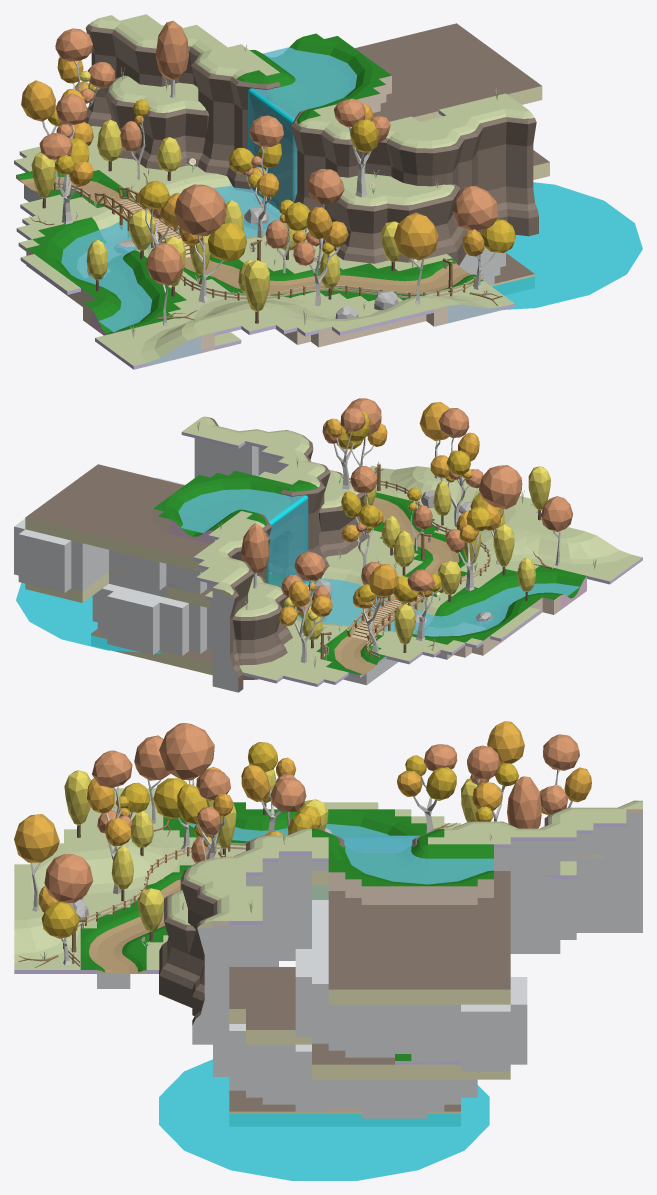
The model's file is Autumn_Path_v2.glb.
3 views of the same model, one above another, from view 1: azimuth 30°, elevation 25°; view 2: azimuth 150°, elevation 25°; view 3: azimuth 270°, elevation 25° (orthographic). The views are drawn at different scales.
Visible parts, largest first — view 1: Water_Circle_1_Lowpoly__Cave Pool__0__0__1, Floor_And_Ceiling_Flat_1x1__Cliff__0__0__2, Grass_Hill_Sharp_Curve_Inner_6x6__Grass__0__0__2, Tree_Oak_5__Leaves Autumn Red__3__1__1, Grass_Hill_Grade_Transition_Curve_Outer_4x5__Grass Autumn__0 (×2), Grass_Hill_Sharp_Esse_4x4__Grass__0__0__1, Grass_Flat_1x1__Grass Autumn__2__0__53, Grass_Hill_Sharp_Curve_Inner_6x6__Grass__0__0__3, Tree_Oak_5__Leaves Autumn Red__3__0__1, Basic_Curve_Outer_3x3_Top__Cliff__0__0__1, Tree_Oak_3__Leaves Autumn Orange__1__1__1, Grass_Hill_Sharp_Curve_Inner_6x6__Grass__0__0__1 (+90 smaller); view 2: Floor_And_Ceiling_Flat_1x1__Cliff__0__0__2, Water_Circle_1_Lowpoly__Cave Pool__0__0__1, Grass_Hill_Grade_Transition_Curve_Outer_4x5__Grass Autumn__0 (×2), Grass_Hill_Sharp_Curve_Inner_6x6__Grass__0__0__3, Wall_Curve_Inner_7x7_Top__Hidden__3__0__2, Floor_And_Ceiling_Flat_1x1__Hidden_Yellow__1__0__2, Grass_Hill_Sharp_Curve_Inner_6x6__Grass__0__0__1, Wall_Curve_Inner_7x7_Base__Hidden__2__0__2, Tree_Oak_5__Leaves Autumn Red__3__1__1, Wall_Curve_Inner_3x3_Top__Hidden__2__0__1, Wall_Curve_Inner_3x3_Base__Hidden__2__0__1, Wall_Esse_4x6_Base__Hidden__2__1__1 (+73 smaller); view 3: Water_Circle_1_Lowpoly__Cave Pool__0__0__1, Floor_And_Ceiling_Flat_1x1__Cliff__0__0__2, Wall_Curve_Inner_7x7_Base__Hidden__2__0__1, Wall_Esse_4x6_Top__Hidden__1__0__1, Wall_Esse_4x6_Base__Hidden__2__0__1, Floor_And_Ceiling_Flat_1x1__Hidden_Yellow__1__0__4, Floor_And_Ceiling_Flat_1x1__Hidden_Yellow__1__0__2, Floor_And_Ceiling_Flat_1x1__Hidden_Yellow__1__0__8, Floor_And_Ceiling_Flat_1x1__Cliff__0__0__1, Wall_Curve_Inner_7x7_Top__Hidden__3__0__1, Wall_Curve_Inner_5x5_Top__Hidden__0__0__1, Wall_Curve_Inner_5x5_Base__Hidden__1__0__2 (+69 smaller).
Part boxes in pixels (x1,y1,x2,y2): Water_Circle_1_Lowpoly__Cave Pool__0__0__1: (492, 182, 642, 309); Floor_And_Ceiling_Flat_1x1__Cliff__0__0__2: (355, 23, 541, 121); Grass_Hill_Sharp_Curve_Inner_6x6__Grass__0__0__2: (27, 217, 106, 277); Tree_Oak_5__Leaves Autumn Red__3__1__1: (174, 184, 226, 235); Grass_Hill_Grade_Transition_Curve_Outer_4x5__Grass Autumn__0 (×2): (140, 295, 500, 362); Grass_Hill_Sharp_Esse_4x4__Grass__0__0__1: (277, 33, 360, 72); Grass_Flat_1x1__Grass Autumn__2__0__53: (95, 313, 240, 365); Grass_Hill_Sharp_Curve_Inner_6x6__Grass__0__0__3: (323, 53, 391, 106); Tree_Oak_5__Leaves Autumn Red__3__0__1: (452, 185, 498, 232); Basic_Curve_Outer_3x3_Top__Cliff__0__0__1: (387, 140, 449, 175); Tree_Oak_3__Leaves Autumn Orange__1__1__1: (394, 212, 438, 259); Grass_Hill_Sharp_Curve_Inner_6x6__Grass__0__0__1: (107, 279, 186, 334); Floor_And_Ceiling_Flat_1x1__Cliff__0__0__2: (26, 464, 210, 557); Water_Circle_1_Lowpoly__Cave Pool__0__0__1: (16, 582, 162, 653); Grass_Hill_Grade_Transition_Curve_Outer_4x5__Grass Autumn__0 (×2): (380, 466, 630, 563); Grass_Hill_Sharp_Curve_Inner_6x6__Grass__0__0__3: (173, 471, 280, 510); Wall_Curve_Inner_7x7_Top__Hidden__3__0__2: (130, 592, 211, 631); Floor_And_Ceiling_Flat_1x1__Hidden_Yellow__1__0__2: (25, 517, 205, 572); Grass_Hill_Sharp_Curve_Inner_6x6__Grass__0__0__1: (479, 565, 586, 604); Wall_Curve_Inner_7x7_Base__Hidden__2__0__2: (130, 625, 211, 655); Tree_Oak_5__Leaves Autumn Red__3__1__1: (479, 465, 522, 509); Wall_Curve_Inner_3x3_Top__Hidden__2__0__1: (41, 535, 95, 569); Wall_Curve_Inner_3x3_Base__Hidden__2__0__1: (41, 558, 95, 592); Wall_Esse_4x6_Base__Hidden__2__1__1: (148, 563, 211, 593); Water_Circle_1_Lowpoly__Cave Pool__0__0__1: (159, 1059, 489, 1180); Floor_And_Ceiling_Flat_1x1__Cliff__0__0__2: (328, 871, 510, 989); Wall_Curve_Inner_7x7_Base__Hidden__2__0__1: (213, 1047, 328, 1111); Wall_Esse_4x6_Top__Hidden__1__0__1: (378, 1004, 477, 1041); Wall_Esse_4x6_Base__Hidden__2__0__1: (378, 1027, 477, 1071); Floor_And_Ceiling_Flat_1x1__Hidden_Yellow__1__0__4: (229, 1111, 460, 1125); Floor_And_Ceiling_Flat_1x1__Hidden_Yellow__1__0__2: (328, 989, 510, 1004); Floor_And_Ceiling_Flat_1x1__Hidden_Yellow__1__0__8: (312, 1064, 510, 1079); Floor_And_Ceiling_Flat_1x1__Cliff__0__0__1: (229, 967, 295, 1008); Wall_Curve_Inner_7x7_Top__Hidden__3__0__1: (213, 1024, 328, 1081); Wall_Curve_Inner_5x5_Top__Hidden__0__0__1: (295, 963, 378, 1027); Wall_Curve_Inner_5x5_Base__Hidden__1__0__2: (295, 1007, 378, 1057).
Bounding box in the file's own units: 44.59 × 17.1 × 38.02.
